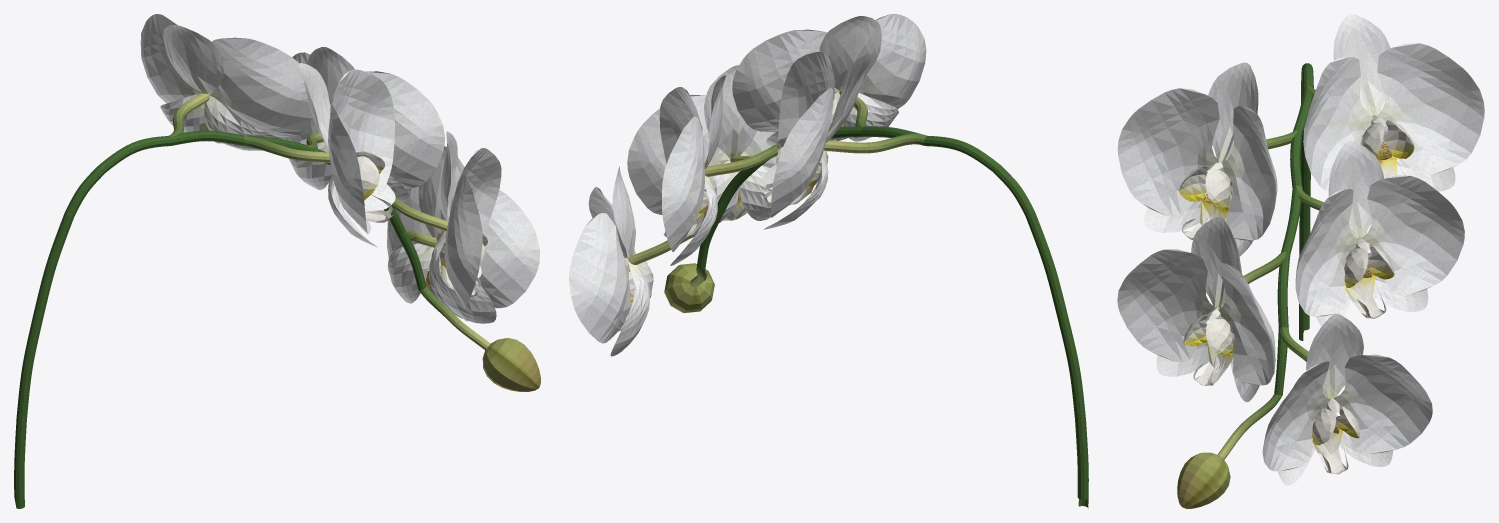
File: orchids.fbx
3 views of the same model, side by side, from view 1: azimuth 30°, elevation 25°; view 2: azimuth 150°, elevation 25°; view 3: azimuth 270°, elevation 25° (orthographic). The views are drawn at different scales.
Visible parts, largest first — view 1: orchid; view 2: orchid; view 3: orchid.
Part boxes in pixels (x1,y1,x2,y2): orchid: [14, 14, 540, 508]; orchid: [569, 14, 1088, 508]; orchid: [1117, 14, 1484, 508].
Bounding box in the file's own units: 6382 × 5054 × 4074.
